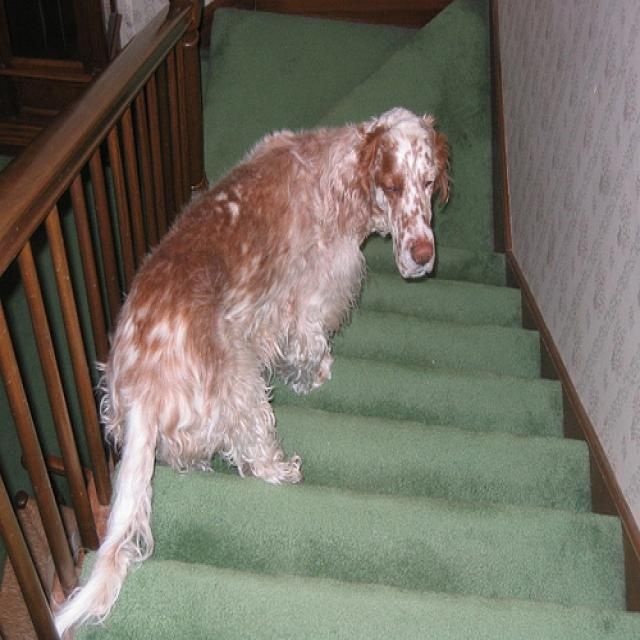dog-english_setter: (54, 99, 444, 633)
